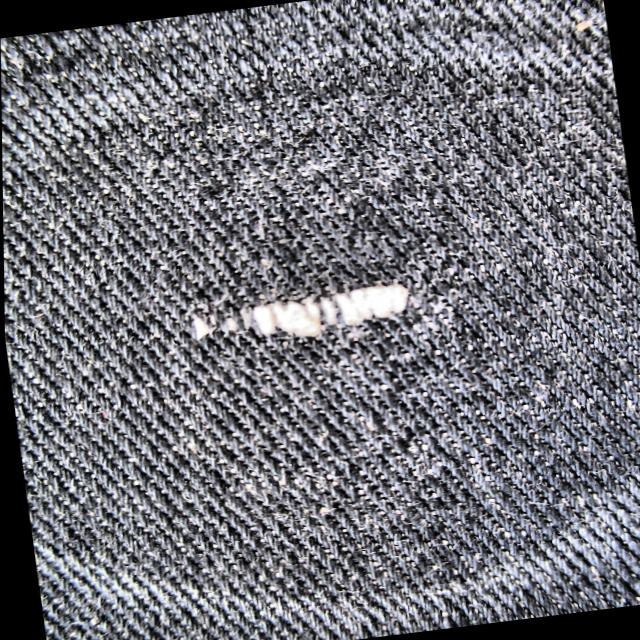Hole: (126, 244, 452, 384)
